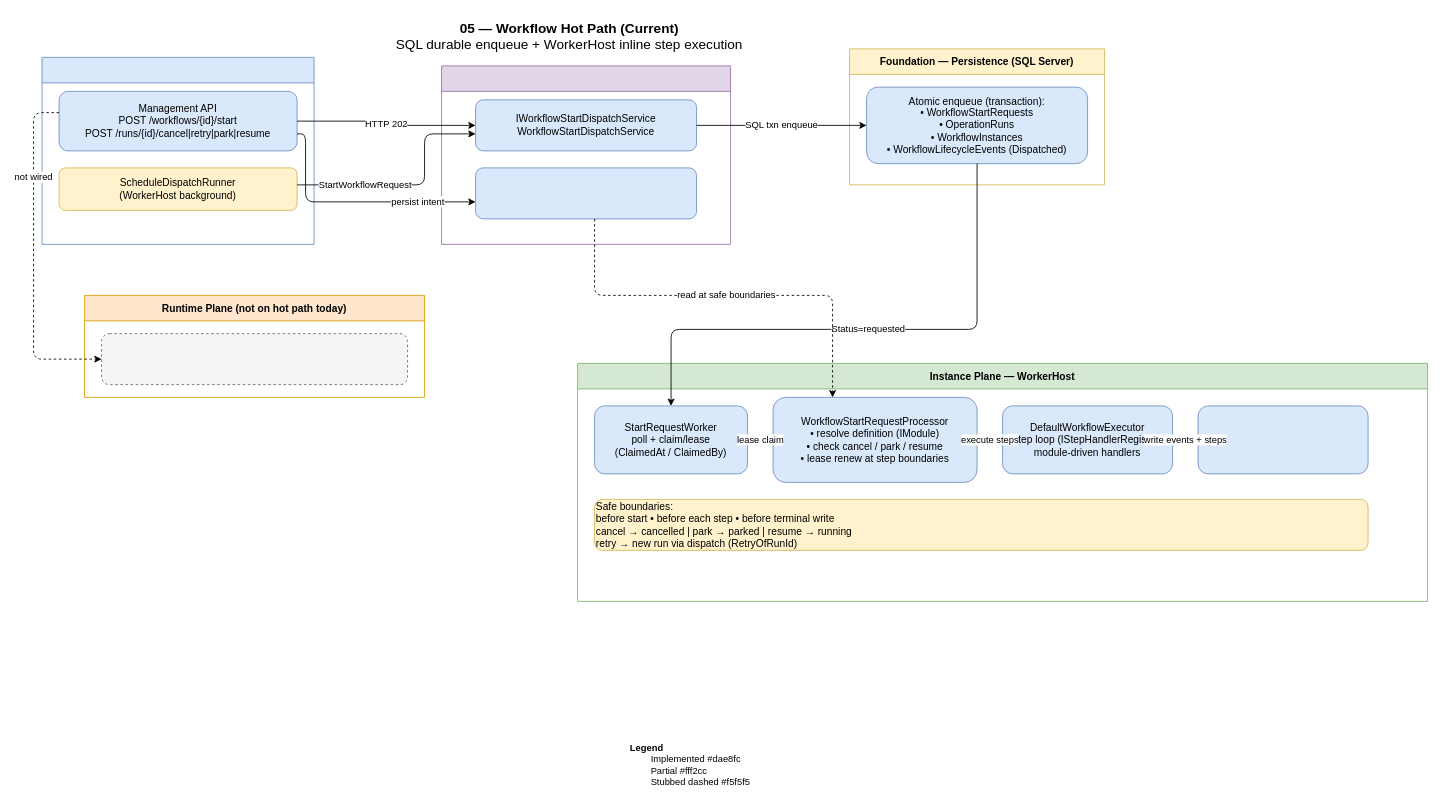
This 1442x802 diagram has some shape labels left out. Here are the shapes that lost their labels. From the top down, the box of each, then its label:
(41, 57, 314, 244): Control Plane
(441, 65, 731, 244): Shared / Core
(475, 167, 697, 219): WorkflowCancelRequests WorkflowExternalControlRequests (park / resume intent)
(101, 333, 408, 385): IWorkflowRuntime (stubbed — not wired to start)
(1197, 405, 1368, 474): WorkflowLifecycleEvents WorkflowStepInstances (per-step history)
